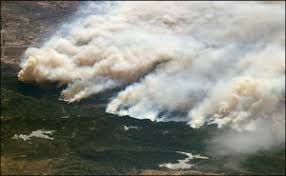yanwu: (15, 0, 286, 125)
